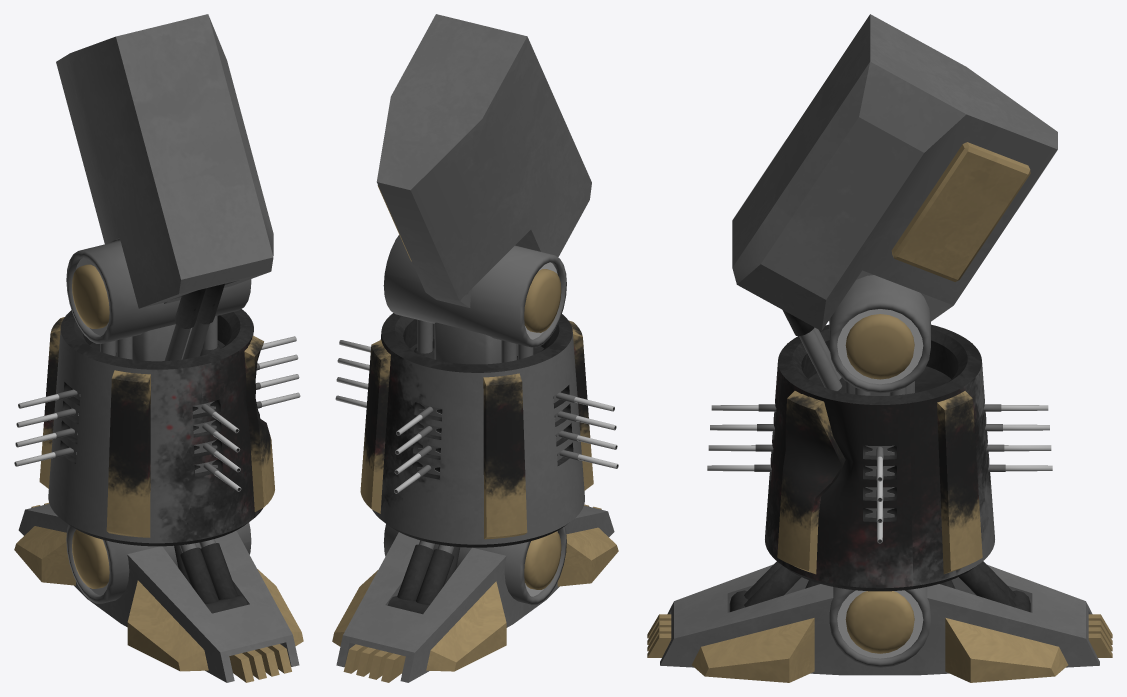
File: leg.fbx
3 renders of one model, left to right at view 1: azimuth 30°, elevation 25°; view 2: azimuth 150°, elevation 25°; view 3: azimuth 270°, elevation 25°, orthographic. The views are drawn at different scales.
Parts seen in each view (by area): view 1: leg; view 2: leg; view 3: leg.
Part boxes in pixels (bbox=[...]): leg: bbox=[14, 14, 303, 682]; leg: bbox=[332, 14, 618, 682]; leg: bbox=[647, 14, 1112, 682].
Size of the model in its own units: 39.12 by 76.06 by 52.69.
Materials: 1 (1 with a texture image).
